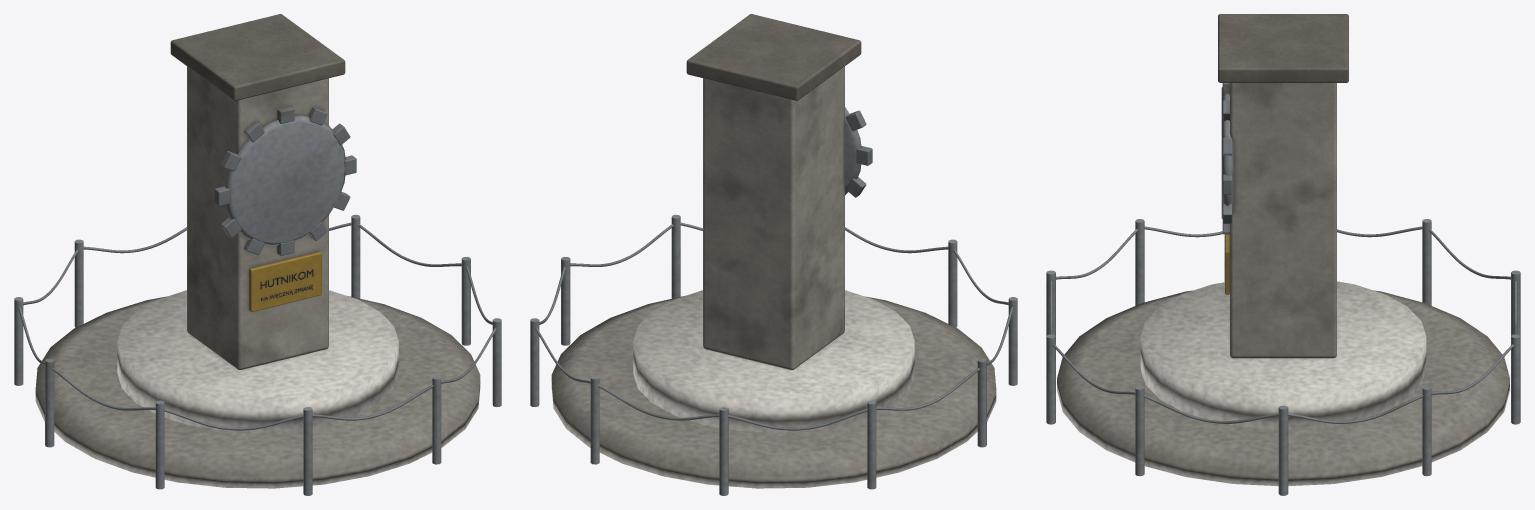
Rendered from rynek_pomnik.glb.
3 views of the same model, side by side, from view 1: azimuth 30°, elevation 25°; view 2: azimuth 150°, elevation 25°; view 3: azimuth 270°, elevation 25° (orthographic).
Visible parts, largest first — view 1: Pomnik; view 2: Pomnik; view 3: Pomnik.
Part boxes in pixels (x1,y1,x2,y2): Pomnik: [14, 14, 501, 495]; Pomnik: [530, 14, 1017, 495]; Pomnik: [1046, 14, 1520, 495].
Bounding box in the file's own units: 4.18 × 3.24 × 3.98.
Materials: 2 (2 with a texture image).
